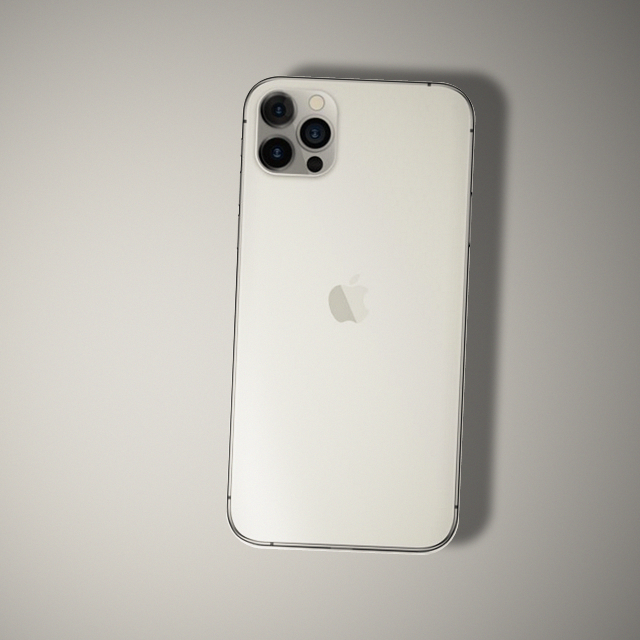iphone_12pro_silver: (228, 61, 487, 568), (242, 80, 346, 182)
